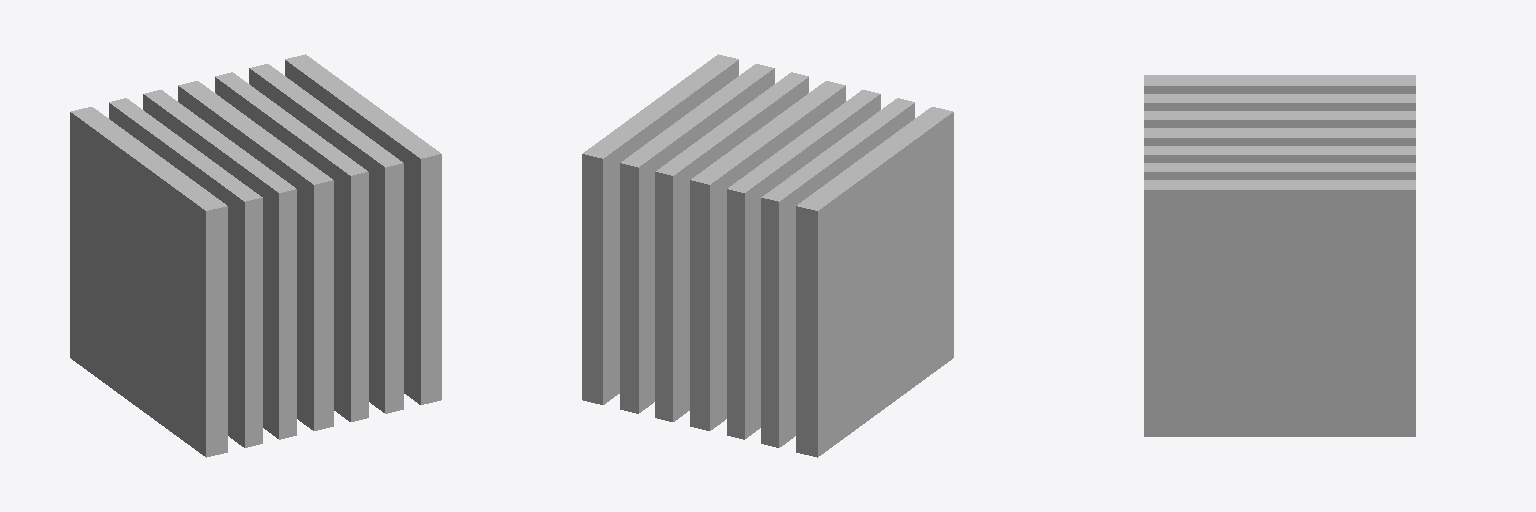
Rendered from wall_slices_full_type4.obj.
The picture shows the model from 3 angles: view 1: azimuth 30°, elevation 25°; view 2: azimuth 150°, elevation 25°; view 3: azimuth 270°, elevation 25°; orthographic projection.
Visible parts, largest first — view 1: wall_slices_full; view 2: wall_slices_full; view 3: wall_slices_full.
Boxes of the visible parts, box(x1,y1,x2,y2) form: wall_slices_full: box(70, 54, 441, 457); wall_slices_full: box(582, 54, 953, 457); wall_slices_full: box(1144, 75, 1415, 436).
Size of the model in its own units: 2 by 2 by 2.